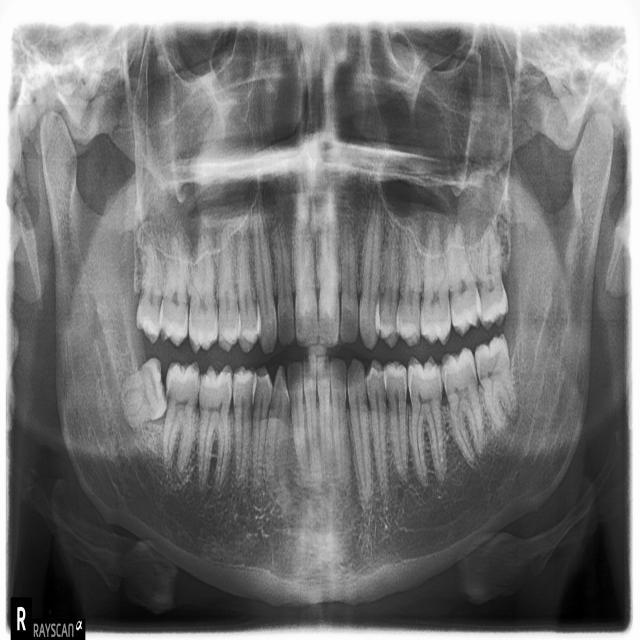mandibula: (36, 106, 615, 615)
